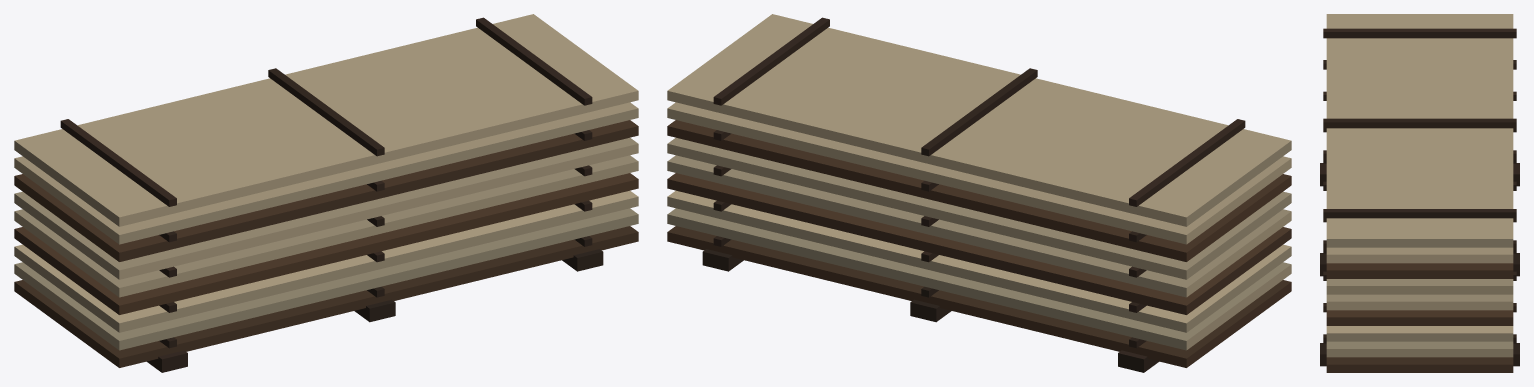
Rendered from walk_prop_boards.glb.
3 renders of one model, left to right at view 1: azimuth 30°, elevation 25°; view 2: azimuth 150°, elevation 25°; view 3: azimuth 270°, elevation 25°, orthographic. The views are drawn at different scales.
Visible parts, largest first — view 1: walk_prop_boards; view 2: walk_prop_boards; view 3: walk_prop_boards.
Part boxes in pixels (bbox=[...]): walk_prop_boards: bbox=[14, 14, 638, 372]; walk_prop_boards: bbox=[667, 14, 1291, 372]; walk_prop_boards: bbox=[1320, 14, 1519, 372].
Size of what is drawn, in the model's own units: 4 by 1.25 by 1.5.
Materials: 1 (1 with a texture image).
